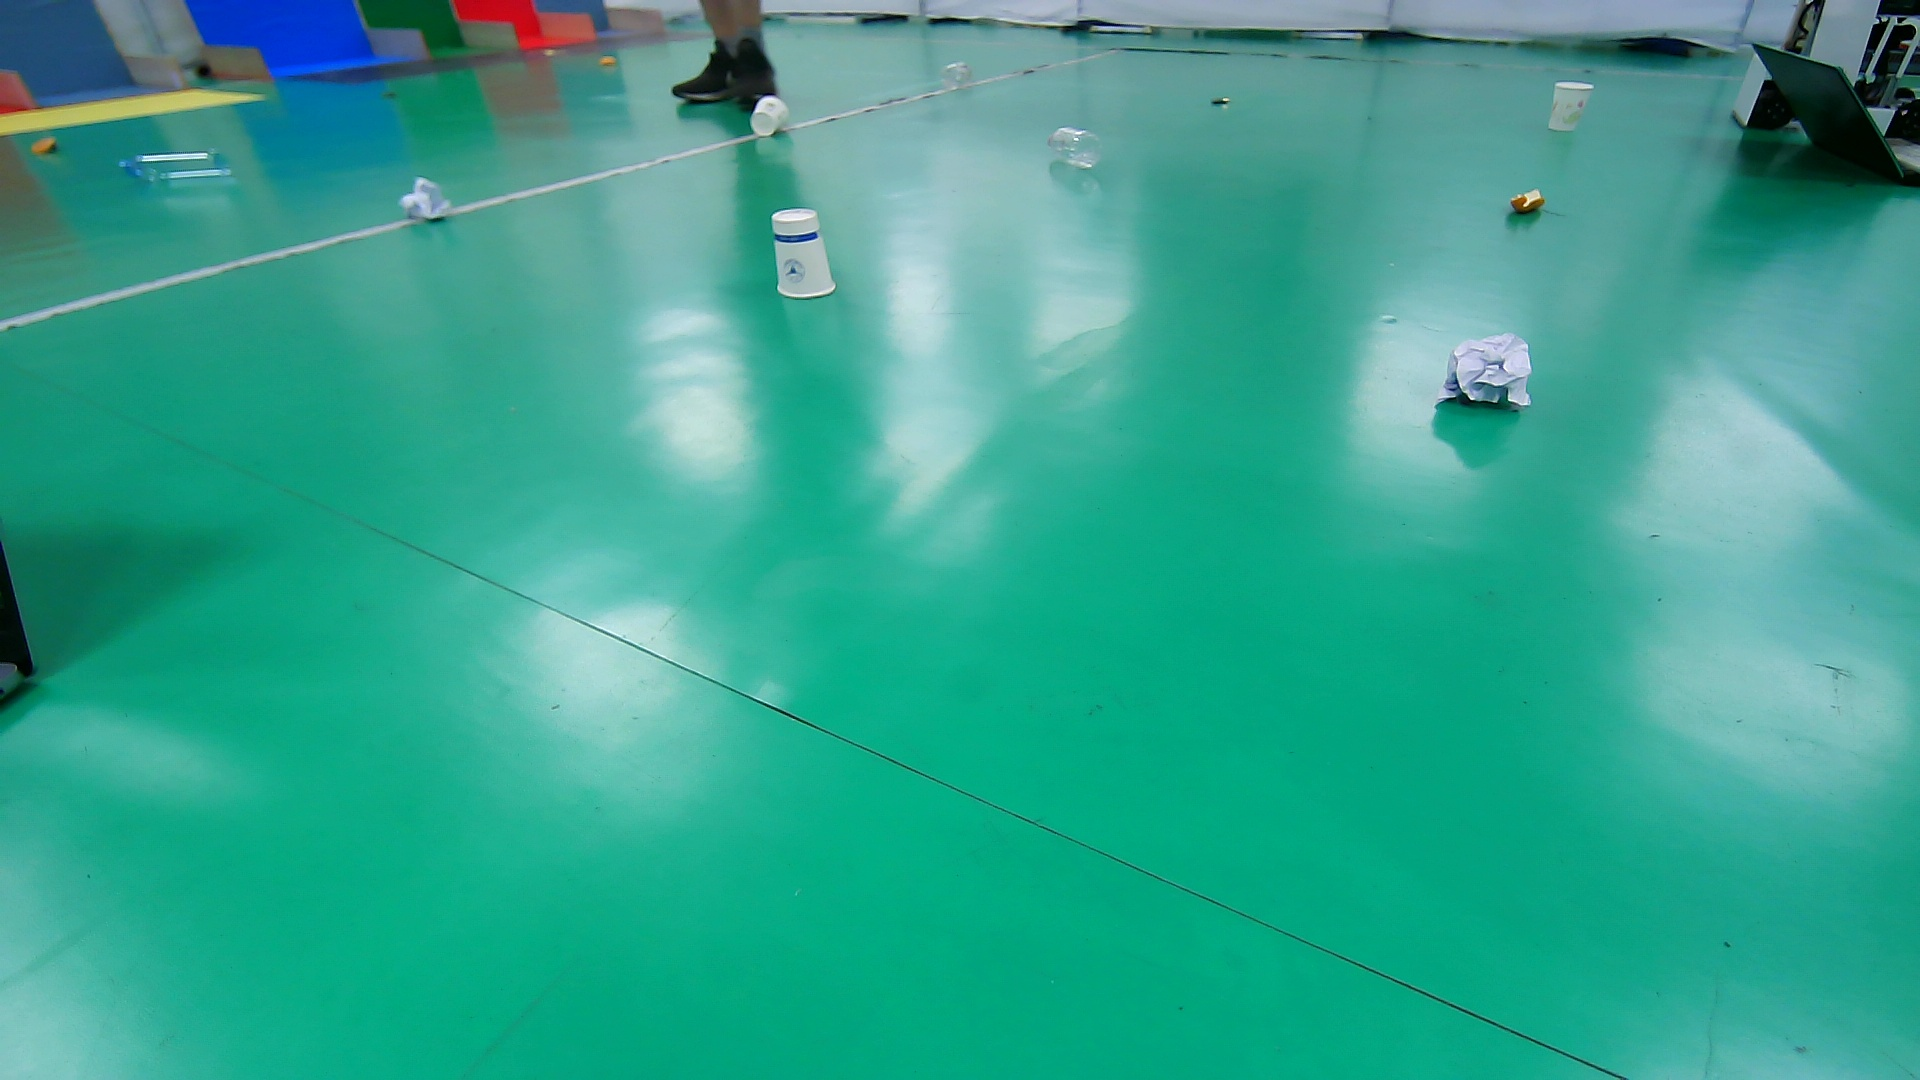battery: (1203, 91, 1238, 111)
bottle: (116, 138, 243, 186), (1043, 123, 1106, 173), (936, 58, 975, 94)
orangepeel: (1502, 183, 1552, 219), (21, 131, 69, 161), (593, 49, 624, 71)
papercup: (767, 203, 843, 305), (1544, 76, 1596, 135), (749, 92, 791, 140)
spitball: (1432, 328, 1534, 414), (398, 175, 456, 224)
